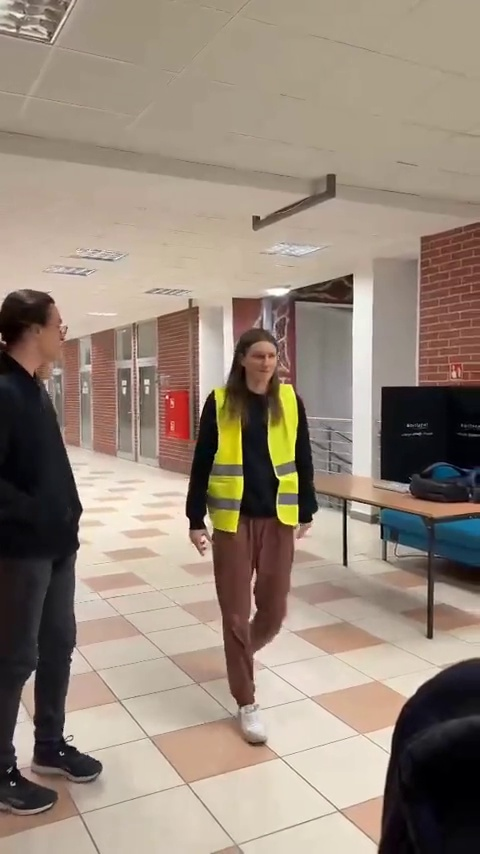no vest: (0, 282, 100, 812)
vest: (186, 322, 326, 758)
